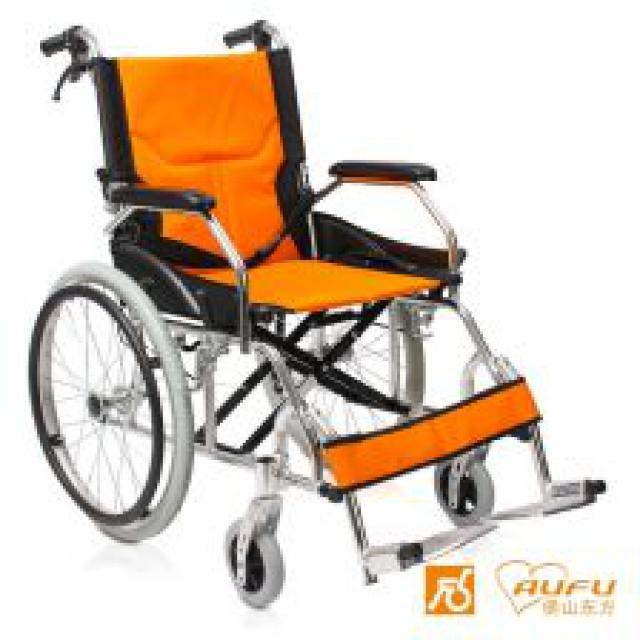wheelchair: (17, 6, 612, 580)
